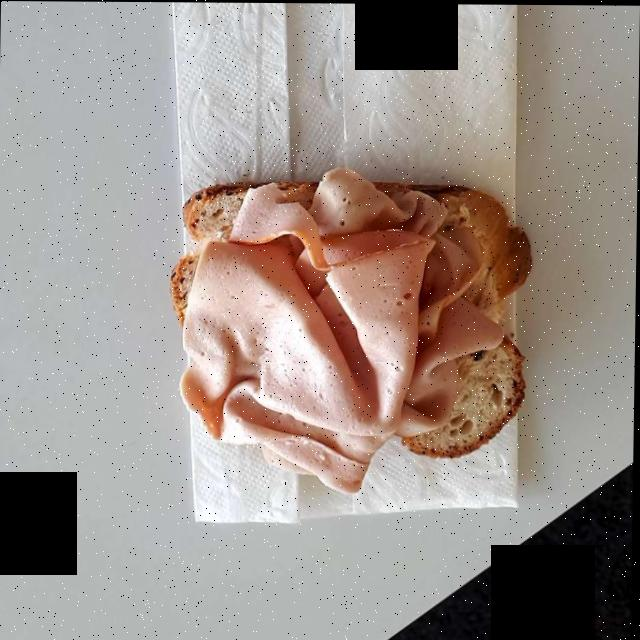braided-white-loaf: (183, 178, 525, 454)
